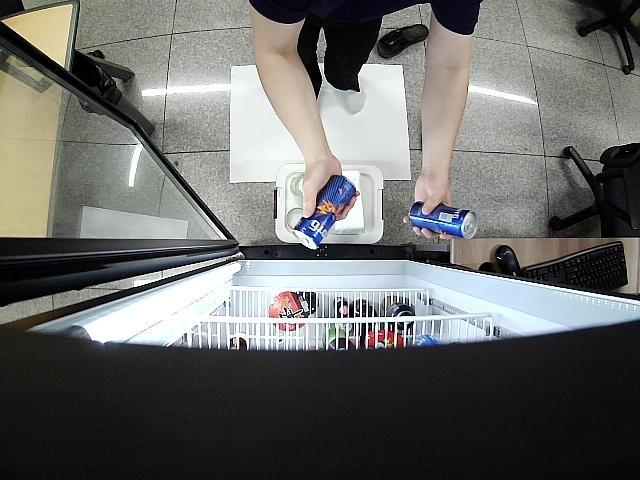16_hot6: (292, 171, 356, 253), (406, 198, 478, 240)
